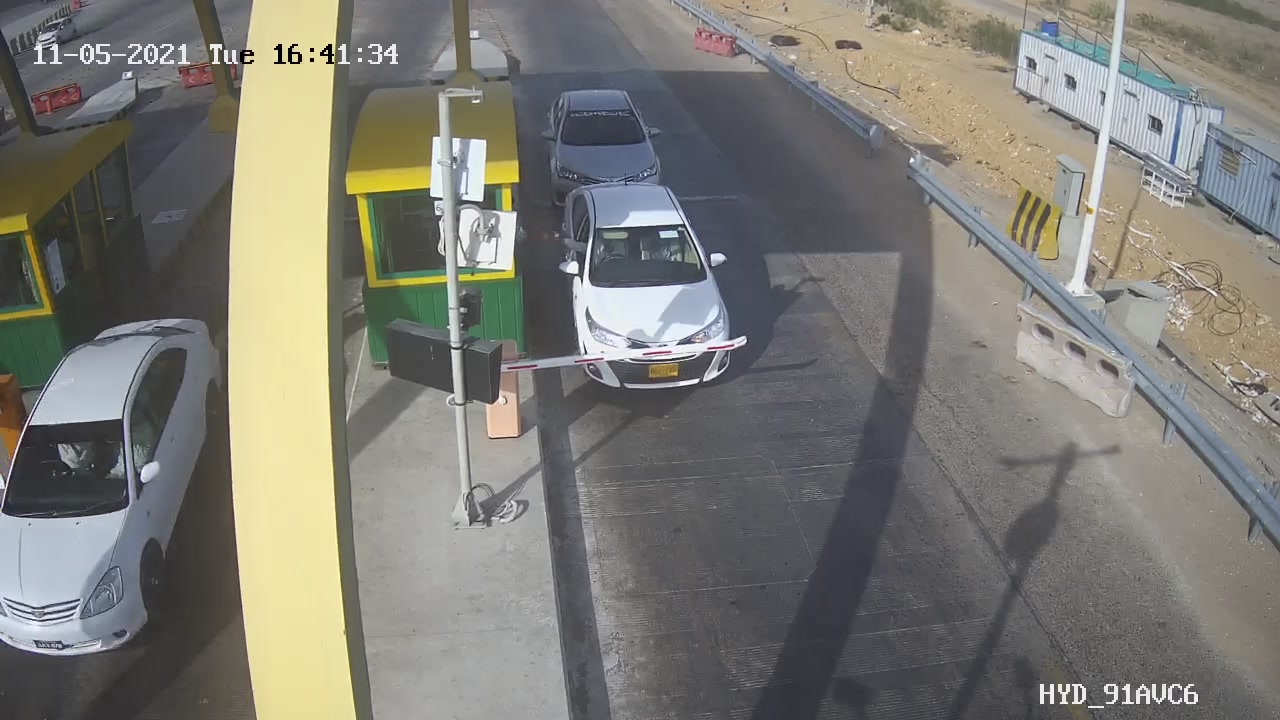F1: (539, 175, 766, 407), (529, 75, 694, 226)
